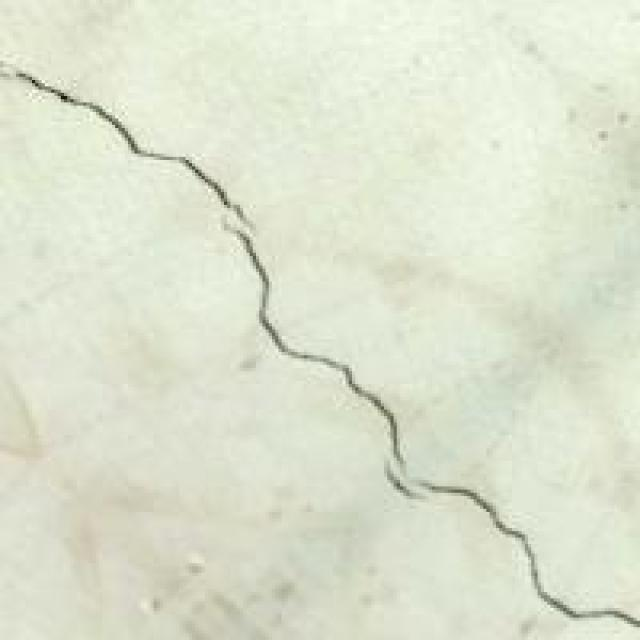crack: (0, 58, 637, 636)
